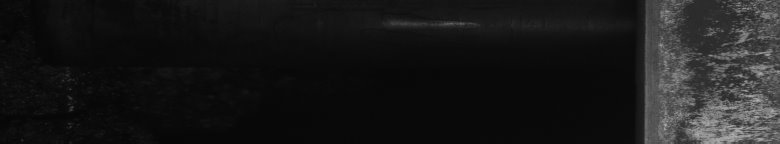kb: (659, 4, 776, 136)
